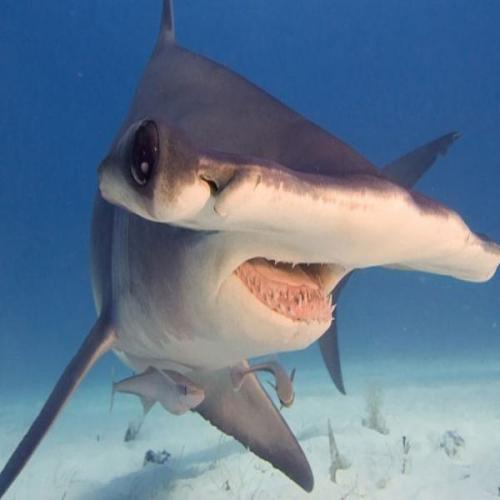shark-endangered: (15, 16, 492, 495)
